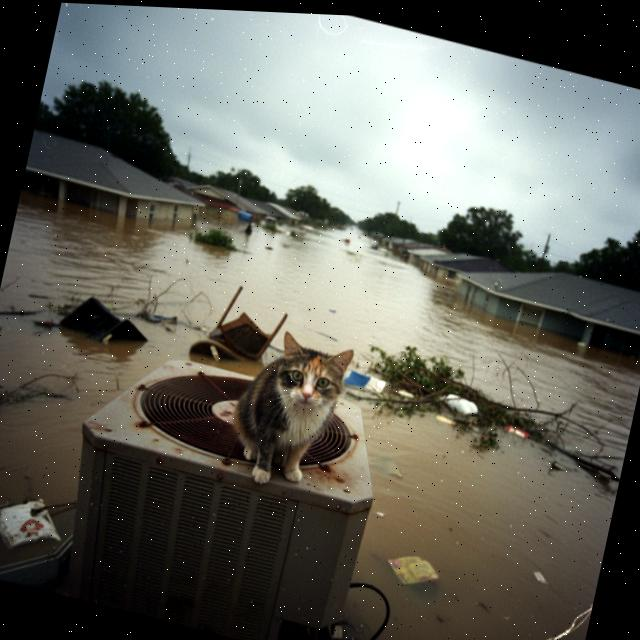cat: (210, 306, 362, 510)
